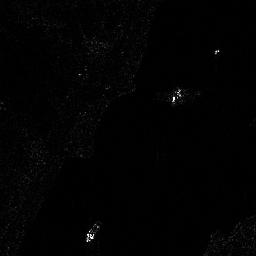ship: (86, 217, 102, 242)
